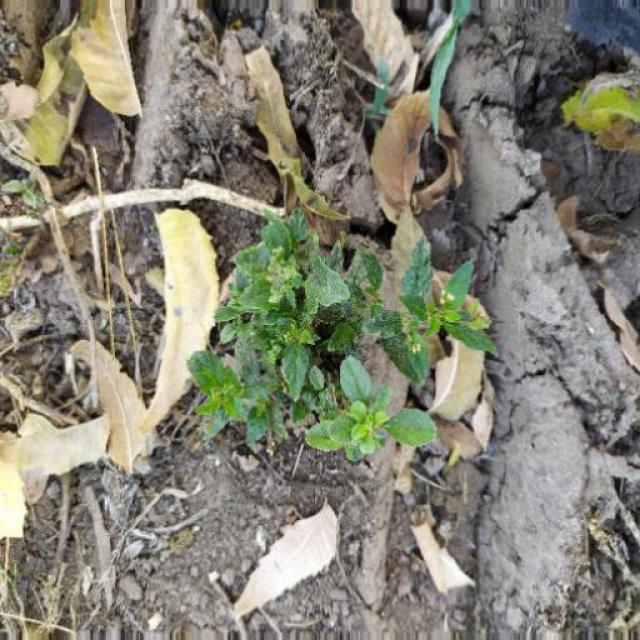weed: (185, 187, 489, 473)
